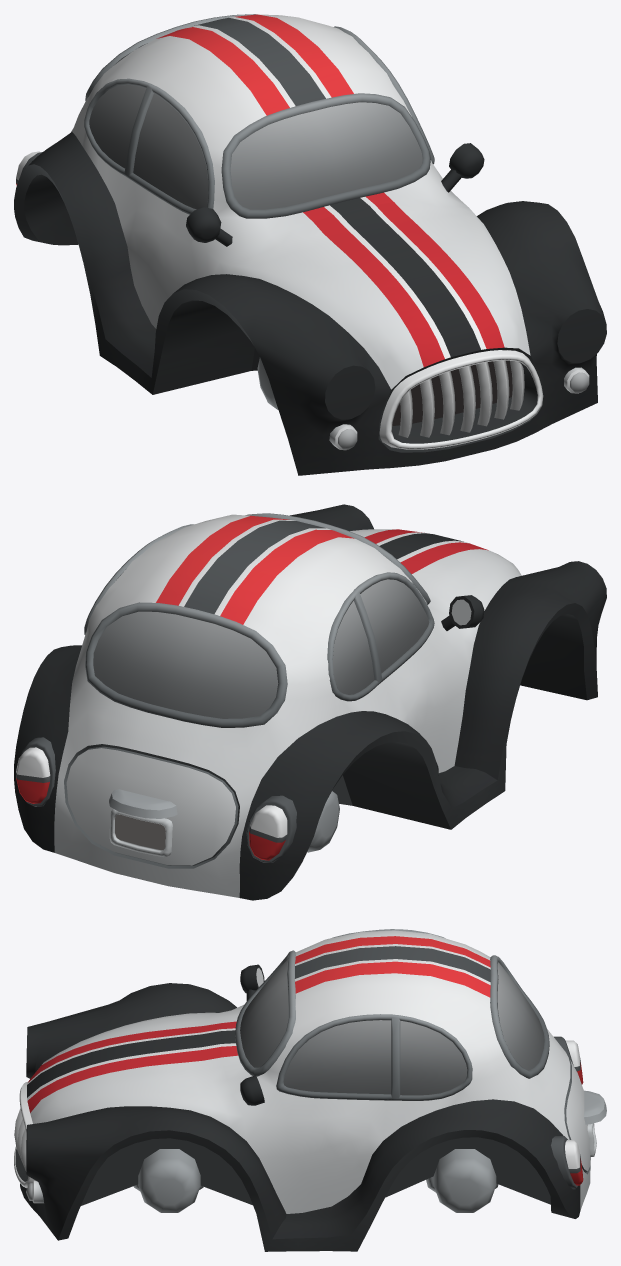
File: Car_03.fbx
3 views of the same model, one above another, from view 1: azimuth 30°, elevation 25°; view 2: azimuth 150°, elevation 25°; view 3: azimuth 270°, elevation 25° (orthographic). The views are drawn at different scales.
Parts seen in each view (by area): view 1: Car_03; view 2: Car_03; view 3: Car_03.
Boxes of the visible parts, x1=… form: Car_03: x1=14, y1=14, x2=606, y2=475; Car_03: x1=14, y1=504, x2=606, y2=900; Car_03: x1=14, y1=929, x2=606, y2=1251.
Size of the model in its own units: 231 by 382 by 170.
